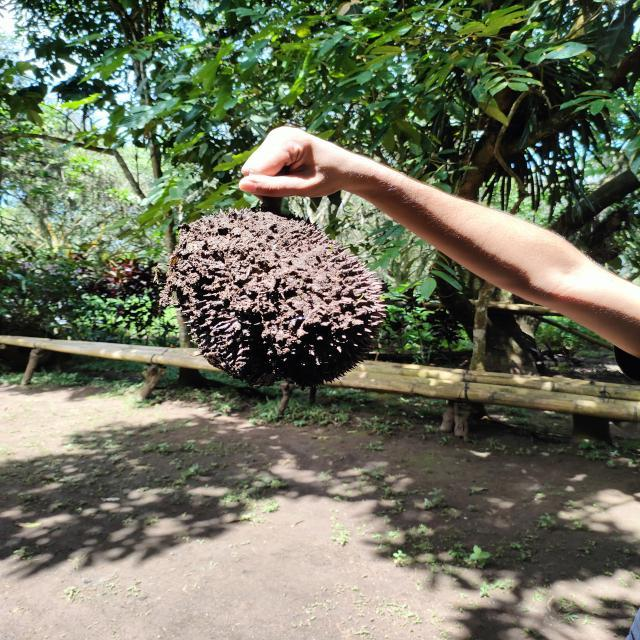defective: (157, 204, 393, 394)
